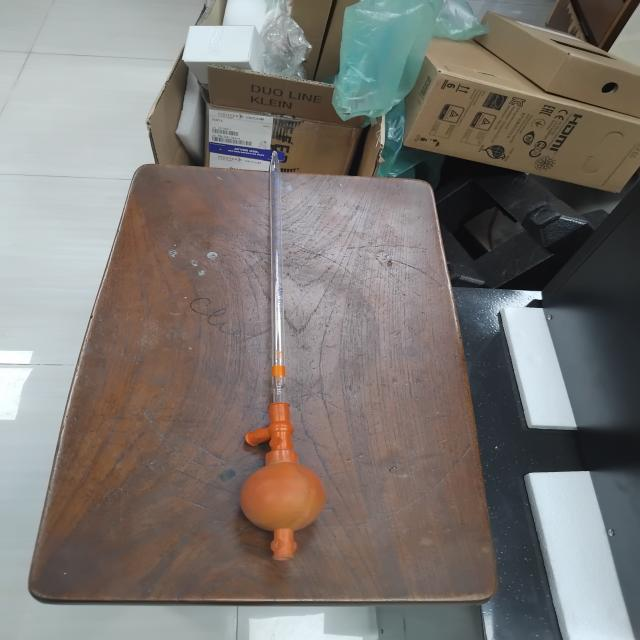Volumetric_Pipet: (209, 124, 352, 585)
